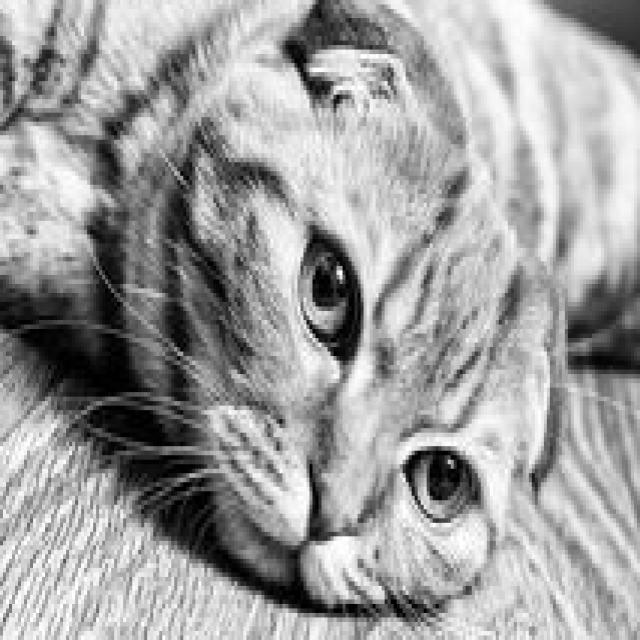Scottish Fold: (0, 0, 640, 622)
